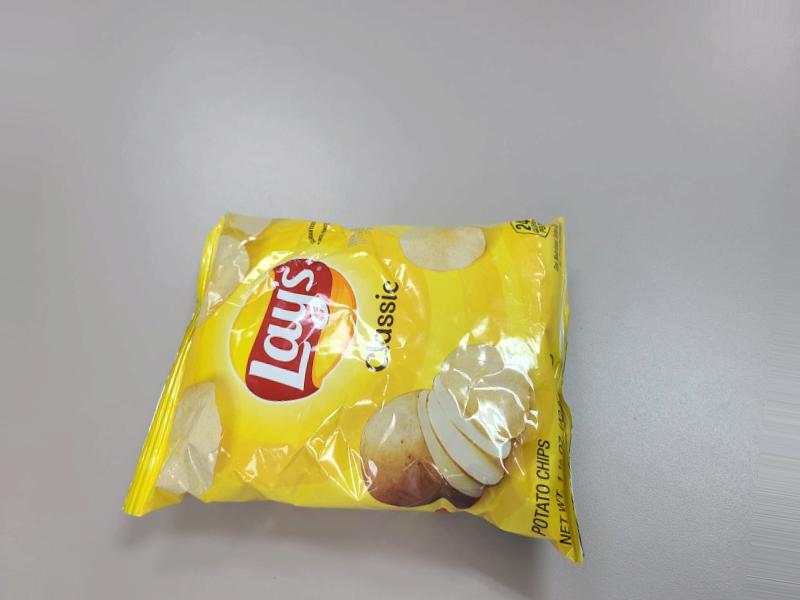lays: (142, 208, 541, 468)
